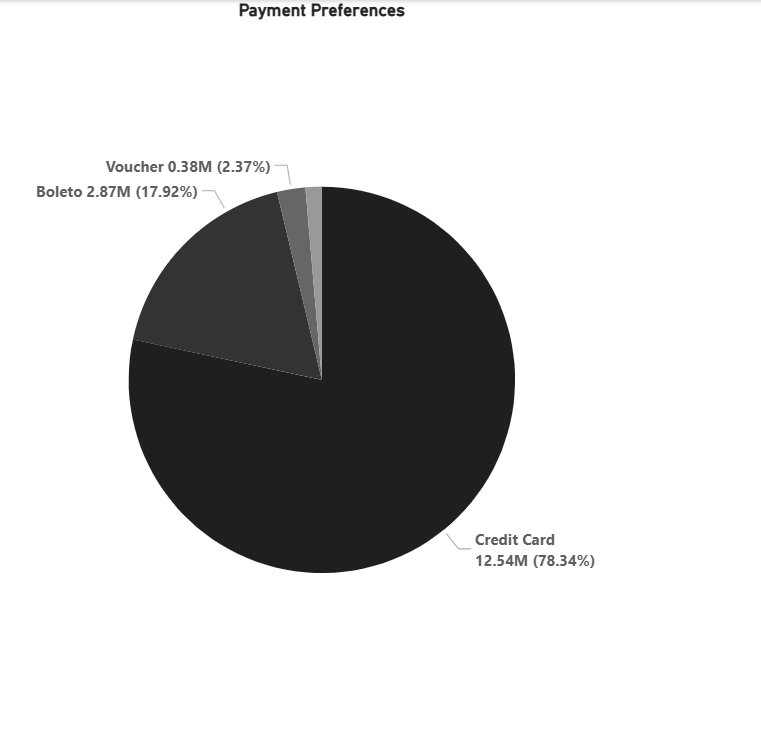

Layout of this report page (visuals, bound fields, positions):
{"tool":"powerbi","page":{"name":"Payment Preferences","canvas":[1280,720],"ordinal":2},"visuals":[{"type":"pieChart","title":"Payment Preferences","fields":{"Category":["public payment_method_preference.payment_type"],"Y":["Sum(public payment_method_preference.total_payment_value)"]},"box":[0,0,630,720],"z":2}]}

Visuals, with their boxes on the page's 1280x720 design canvas (x1, y1, x2, y2). These are canvas units, not pixel positions in the 761x739 screenshot, which may show the page scaled, cropped or inside an application window:
"Payment Preferences" pieChart: x1=0, y1=0, x2=630, y2=720
